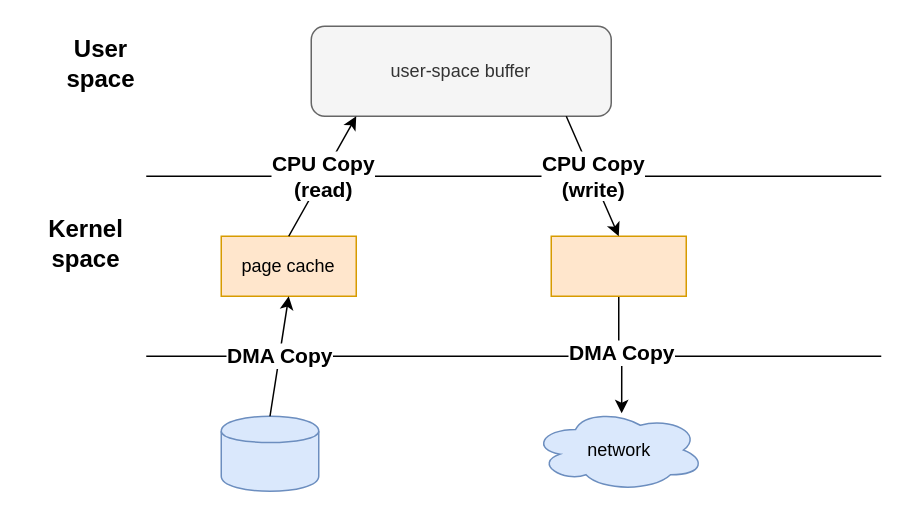
This 909x518 diagram has some shape labels left out. The centre of each missing label's shape, as x and y in pixels:
disk: pixel 269 453
socket buffer: pixel 618 265
